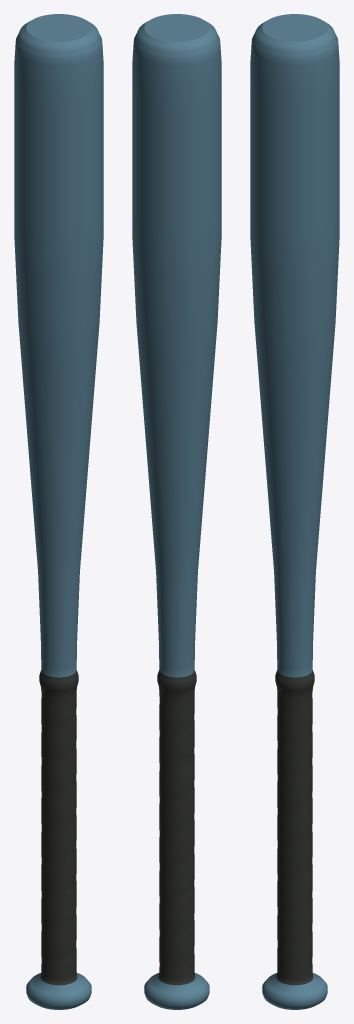
File: A-NEW-20261027-BASEBALL-BAT-001_LOD0_R2.glb
The picture shows the model from 3 angles, left to right: view 1: azimuth 90°, elevation 25°; view 2: azimuth 150°, elevation 25°; view 3: azimuth 270°, elevation 25°; orthographic projection.
Visible parts, largest first — view 1: continuous original knob grip taper and barrel; view 2: continuous original knob grip taper and barrel; view 3: continuous original knob grip taper and barrel.
Part boxes in pixels (box(x1,y1,x2,y2)): continuous original knob grip taper and barrel: box(14, 14, 103, 1009); continuous original knob grip taper and barrel: box(132, 14, 221, 1009); continuous original knob grip taper and barrel: box(250, 14, 339, 1009).
Bounding box in the file's own units: 0.068 × 0.818 × 0.068.
